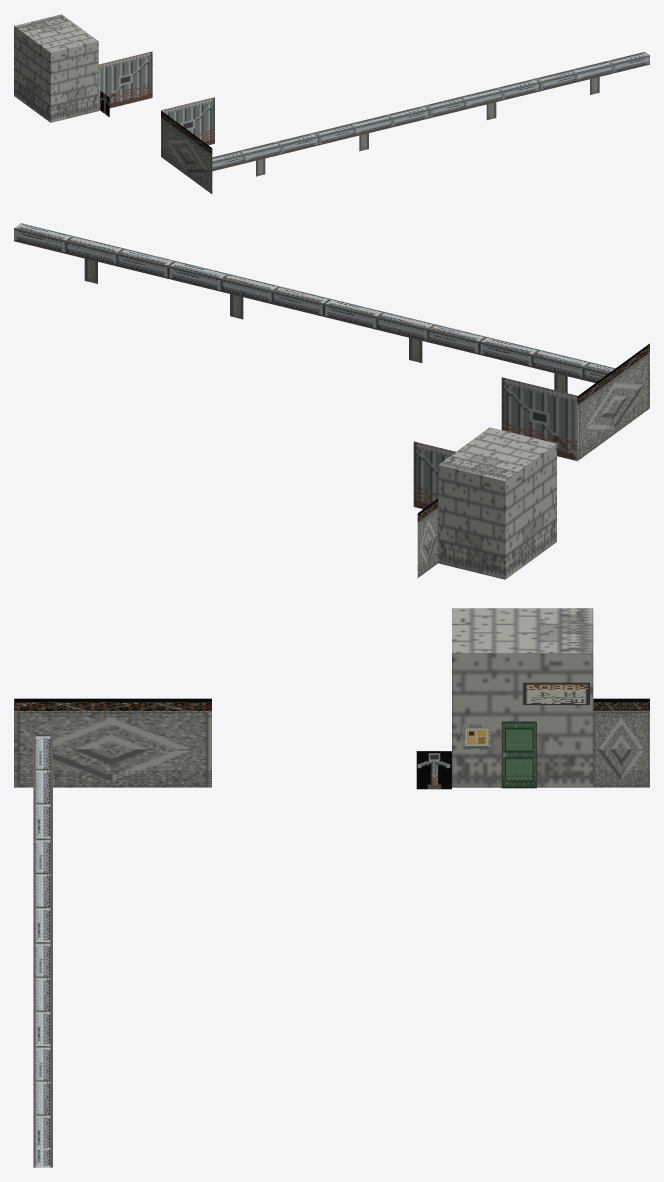
The model's file is yard.glb.
The picture shows the model from 3 angles, top to bottom: view 1: azimuth 30°, elevation 25°; view 2: azimuth 150°, elevation 25°; view 3: azimuth 270°, elevation 25°; orthographic projection. The views are drawn at different scales.
Parts seen in each view (by area): view 1: yard; view 2: yard; view 3: yard.
Boxes of the visible parts, left/top/right/bottom form: yard: left=14, top=14, right=649, bottom=193; yard: left=14, top=223, right=649, bottom=579; yard: left=14, top=608, right=649, bottom=1167.
Bounding box in the file's own units: 30.8 × 4.2 × 18.
2 materials, 2 textured.
